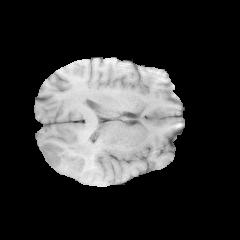glioma: (41, 126, 101, 179)
